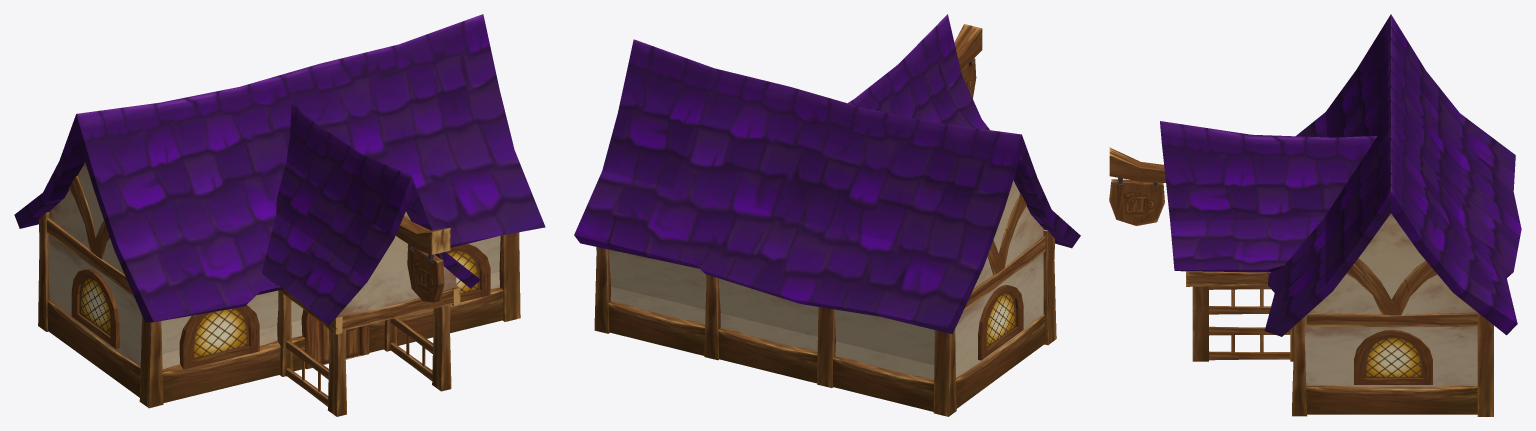
File: Fantasy_House_5.FBX
3 views of the same model, side by side, from view 1: azimuth 30°, elevation 25°; view 2: azimuth 150°, elevation 25°; view 3: azimuth 270°, elevation 25° (orthographic). The views are drawn at different scales.
Visible parts, largest first — view 1: Fantasy_House_5; view 2: Fantasy_House_5; view 3: Fantasy_House_5.
Part boxes in pixels (left/top/right/bottom): Fantasy_House_5: left=14, top=14, right=545, bottom=416; Fantasy_House_5: left=574, top=14, right=1080, bottom=416; Fantasy_House_5: left=1109, top=14, right=1521, bottom=416.
Size of the model in its own units: 11.51 by 7.01 by 11.26.
